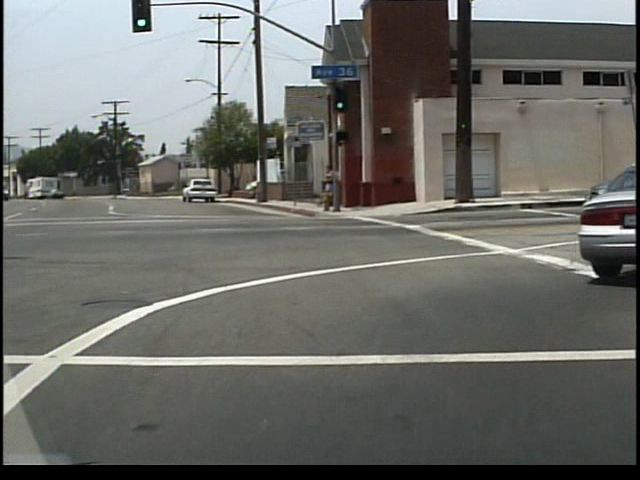person: (327, 164, 345, 213)
